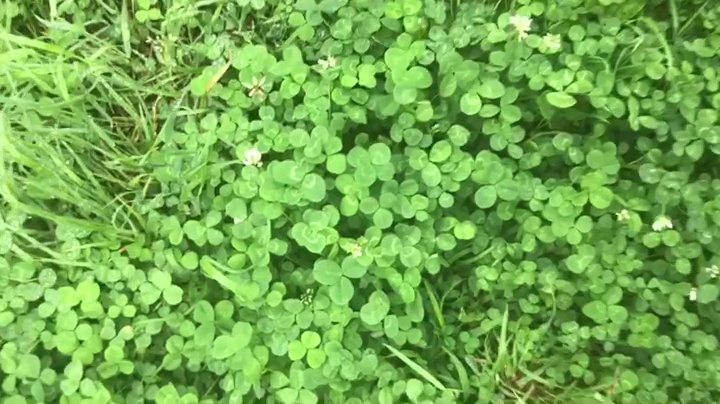4-clover: (349, 145, 396, 187)
